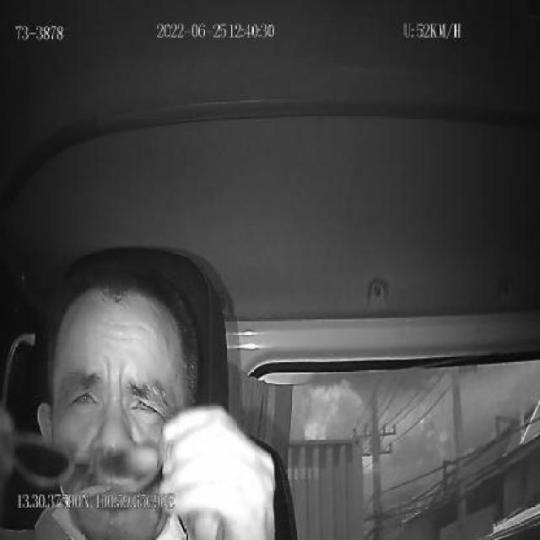smoking: (61, 482, 112, 506)
